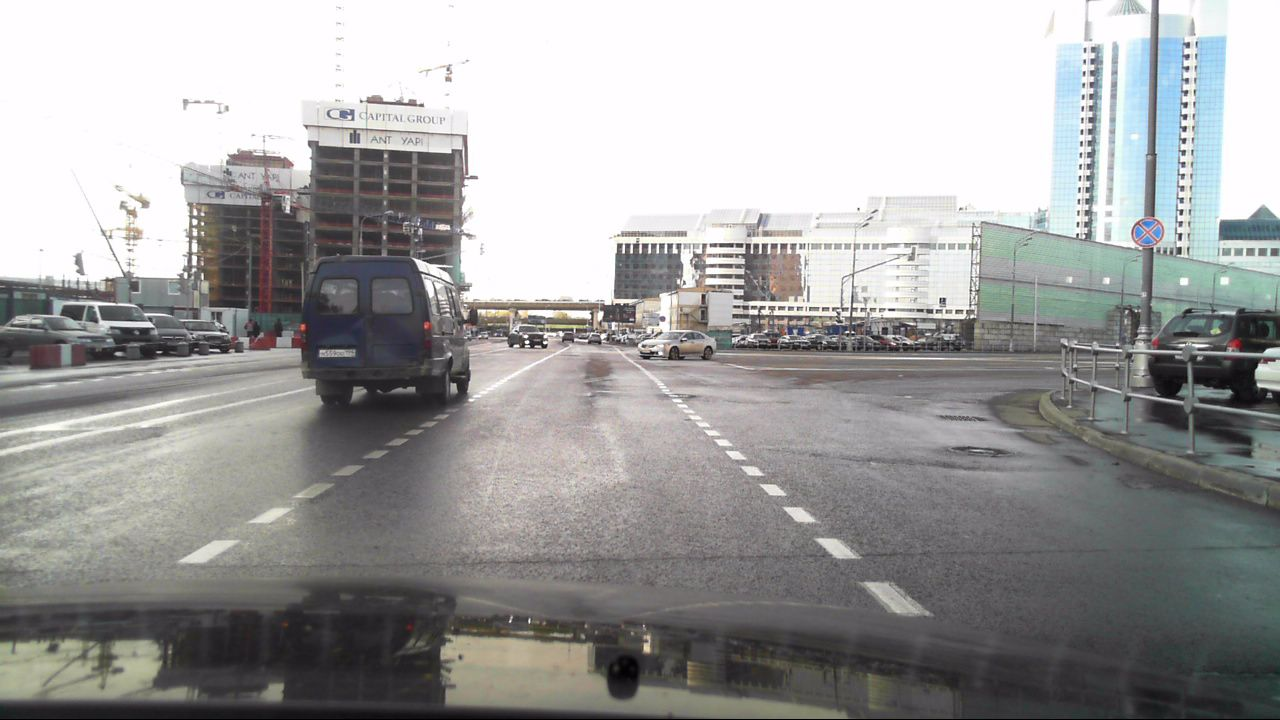No Parking: (1127, 217, 1167, 248)
